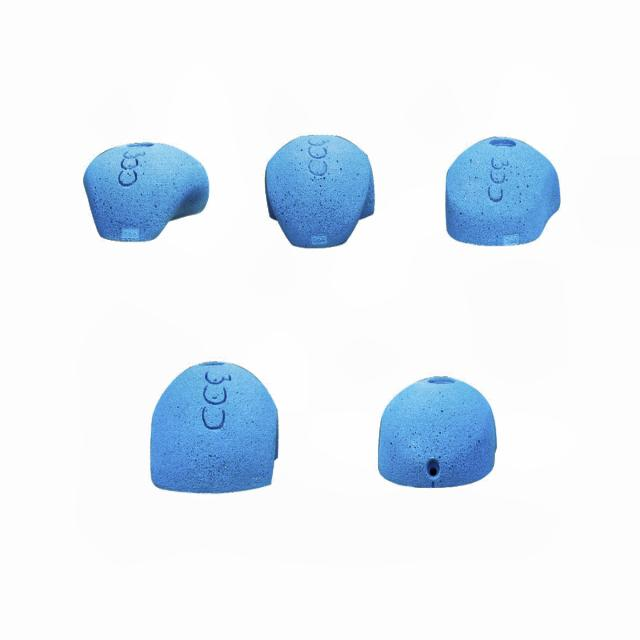Hold: (146, 362, 286, 493), (383, 368, 502, 488), (448, 130, 562, 248), (266, 135, 375, 253), (83, 139, 205, 241)
